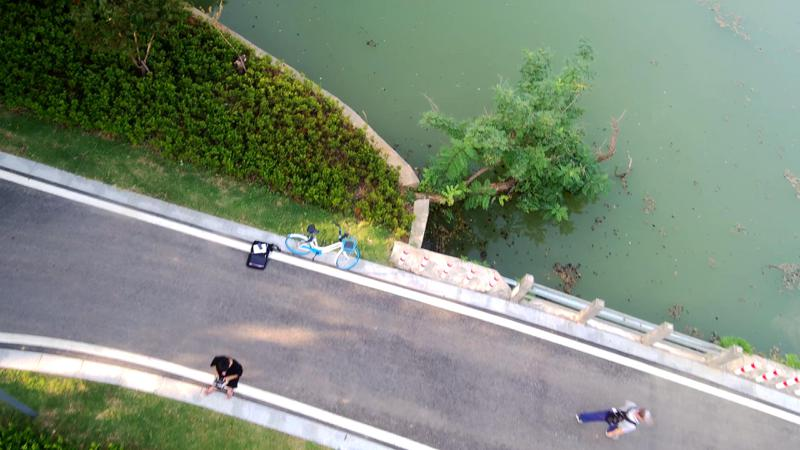passerby: (573, 398, 653, 438), (200, 352, 244, 404)
